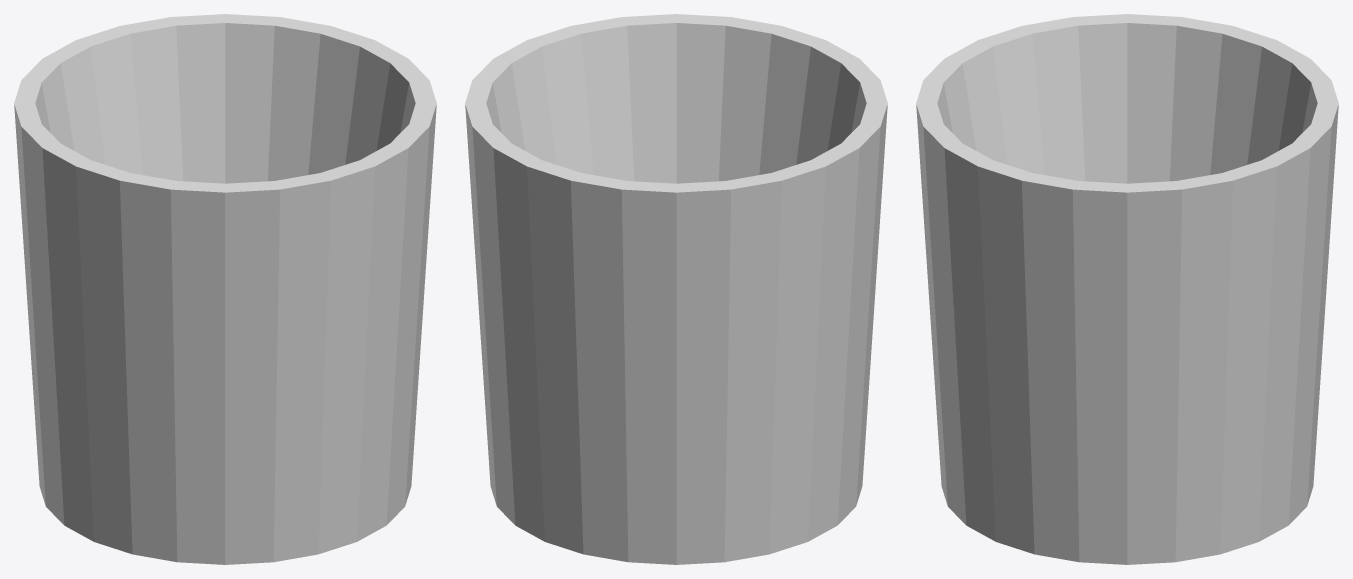
File: glass.fbx
3 views of the same model, side by side, from view 1: azimuth 30°, elevation 25°; view 2: azimuth 150°, elevation 25°; view 3: azimuth 270°, elevation 25° (orthographic).
Visible parts, largest first — view 1: glass_Baked; view 2: glass_Baked; view 3: glass_Baked.
Part boxes in pixels (bbox=[...]): glass_Baked: bbox=[14, 14, 436, 564]; glass_Baked: bbox=[465, 14, 887, 564]; glass_Baked: bbox=[916, 14, 1338, 564].
Bounding box in the file's own units: 6.56 × 6.56 × 6.56.
Materials: 1 (1 with a texture image).
